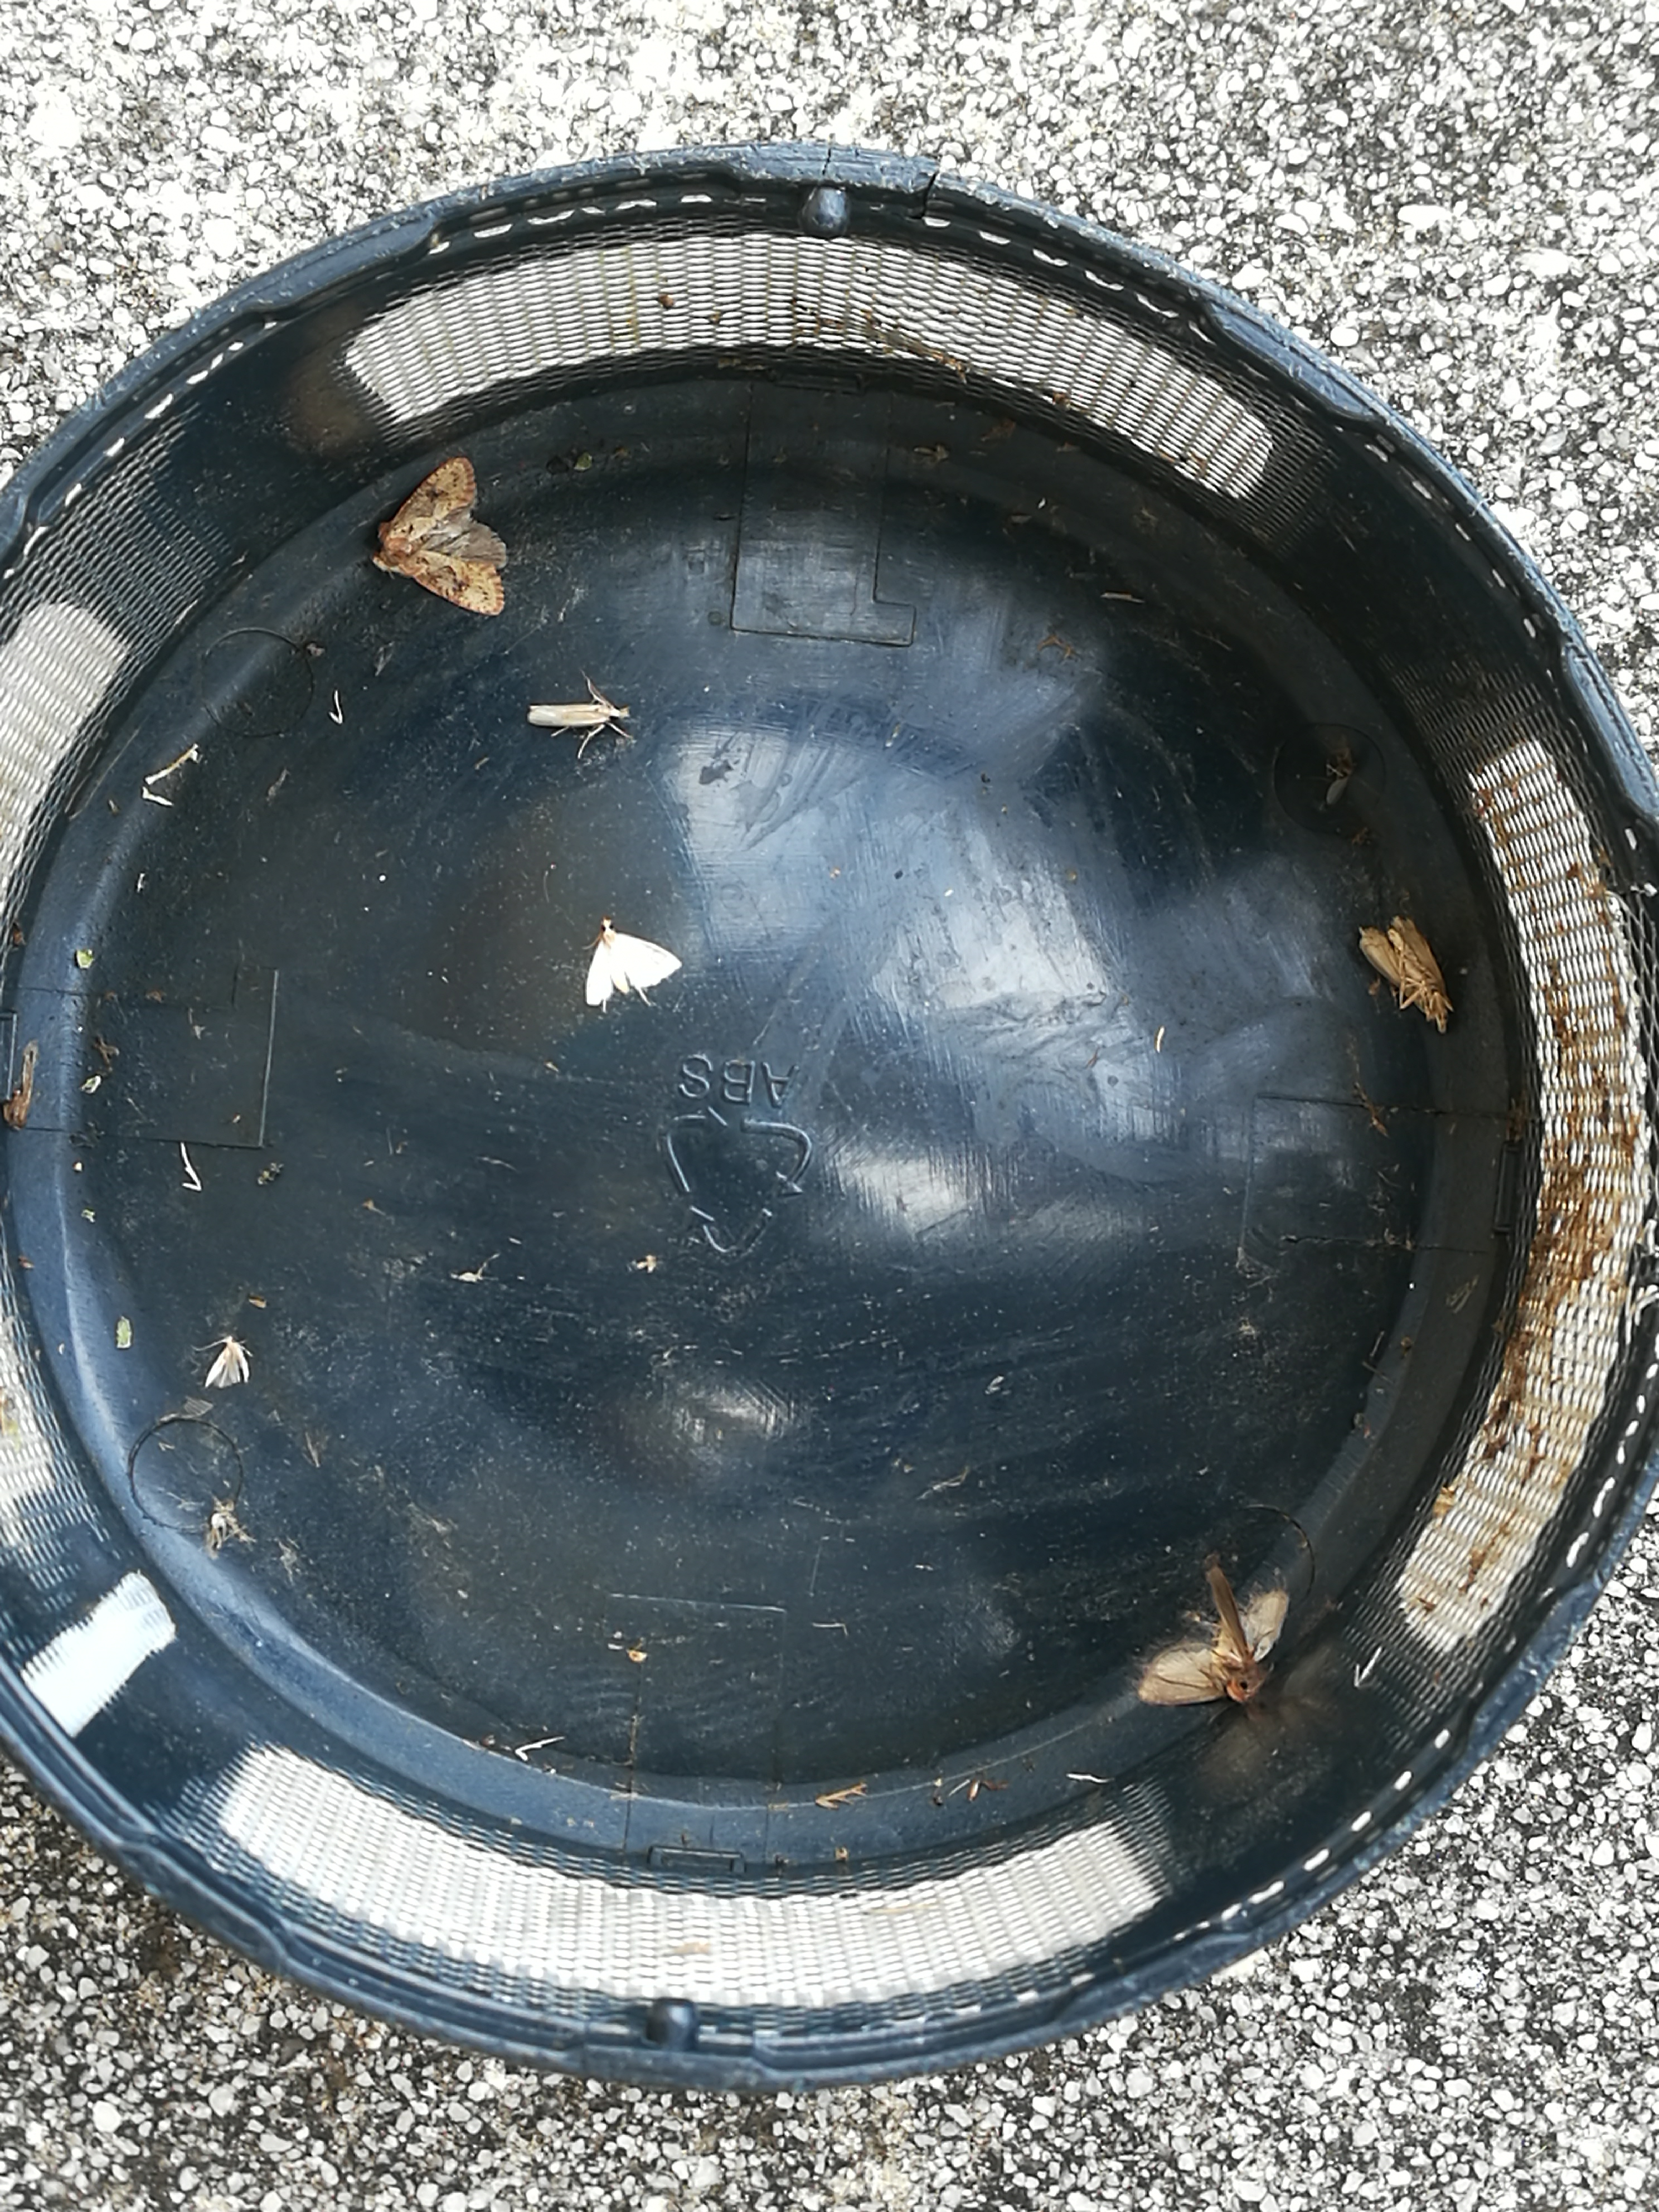mosquito: (528, 705, 624, 726), (1328, 758, 1354, 806)
moth: (376, 458, 507, 615), (1140, 1569, 1288, 1705), (1359, 918, 1453, 1033), (586, 918, 683, 1005), (206, 1336, 249, 1386)
